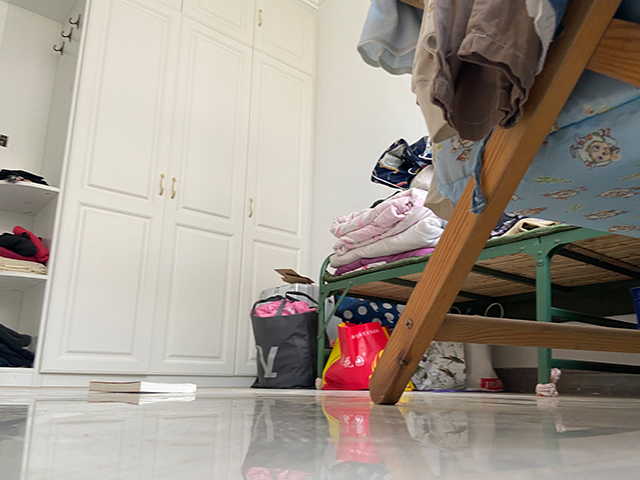bed: (315, 223, 640, 399)
book: (89, 380, 198, 396)
cabinet: (1, 24, 321, 393)
